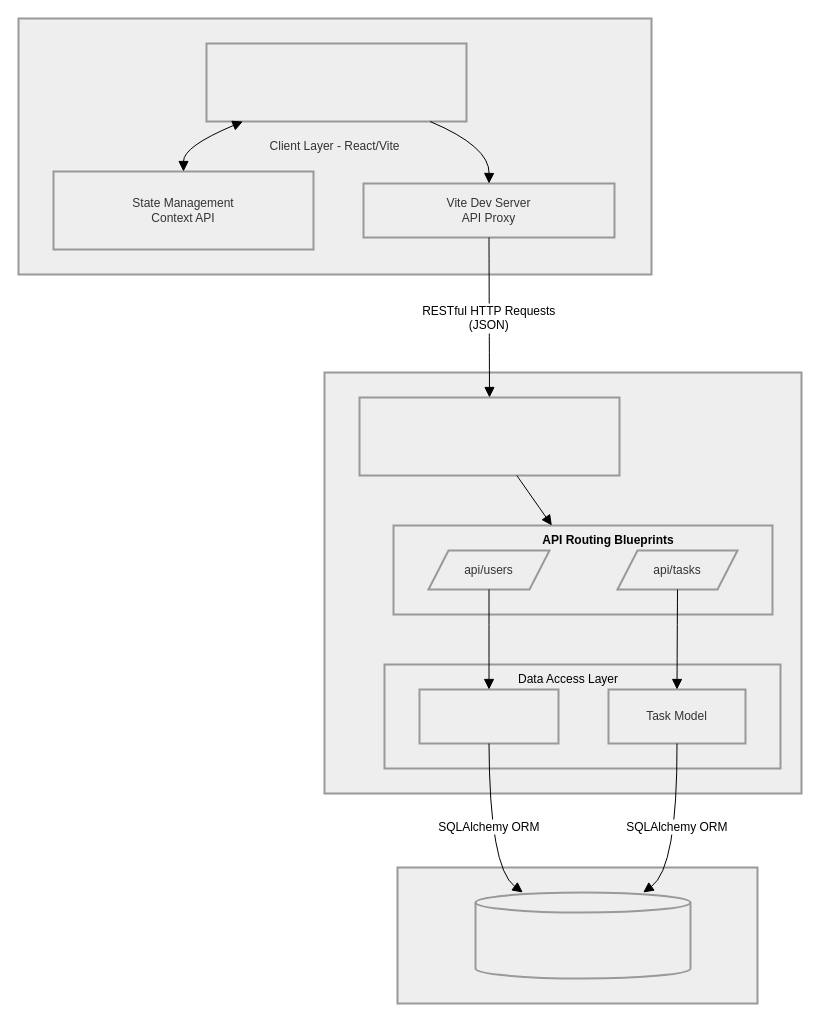
The diagram is 819 pixels wide and 1021 high, and some of its shapes have lost their labels. The shapes that lost their labels are listed below. From the top down, each one's centre as x and y in pixels, then its label:
At [336,82]: "User Interface React Components".
At [489,436]: "Application Factory create_app".
At [488,716]: "User Model".
At [582,935]: "PostgreSQL assignment_db".
